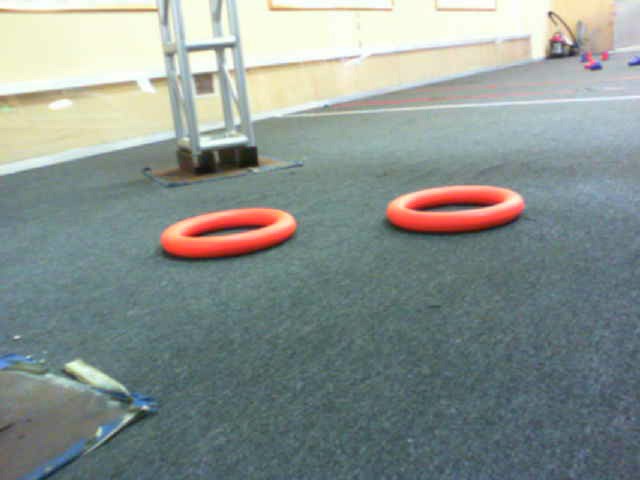Note: (164, 210, 303, 266), (388, 188, 531, 242)
